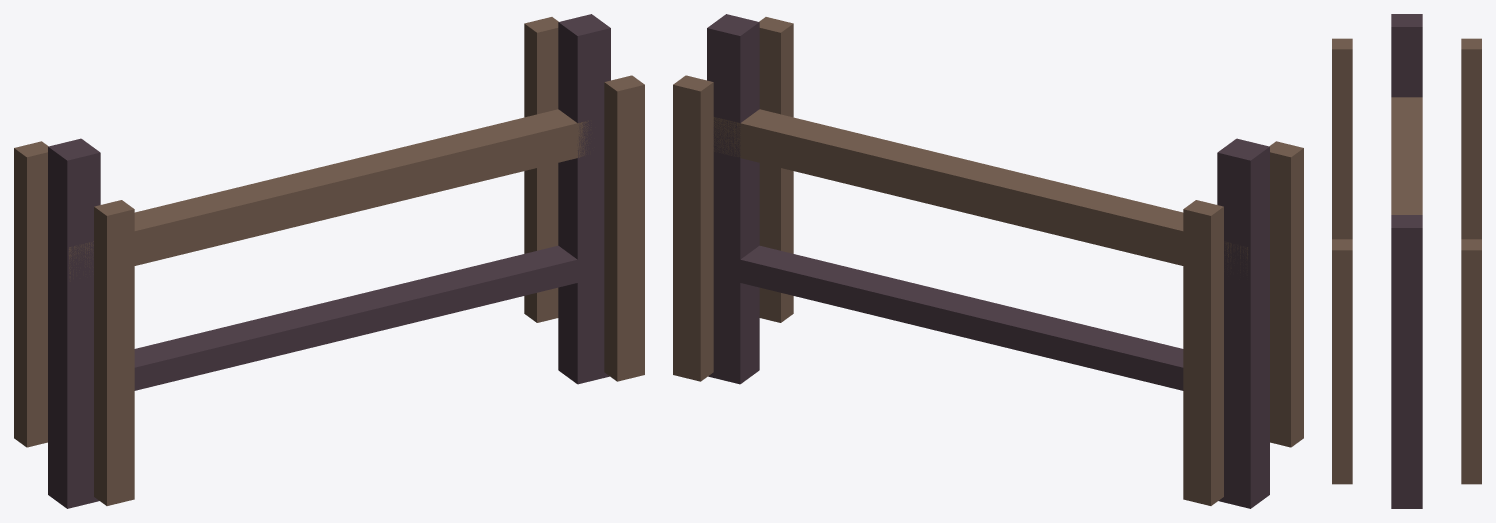
The model's file is fence_segment.glb.
The picture shows the model from 3 angles, left to right: view 1: azimuth 30°, elevation 25°; view 2: azimuth 150°, elevation 25°; view 3: azimuth 270°, elevation 25°; orthographic projection. The views are drawn at different scales.
Parts seen in each view (by area): view 1: fence_segment; view 2: fence_segment; view 3: fence_segment.
Boxes of the visible parts, box(x1,y1,x2,y2) form: fence_segment: box(14, 14, 644, 508); fence_segment: box(673, 14, 1303, 508); fence_segment: box(1332, 14, 1481, 508).
Size of the model in its own units: 1.96 by 1.2 by 0.58.
